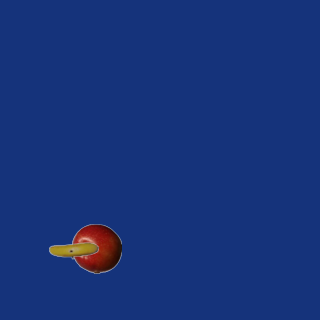Apple Braeburn: (71, 223, 121, 273)
Banana: (48, 225, 98, 275)
